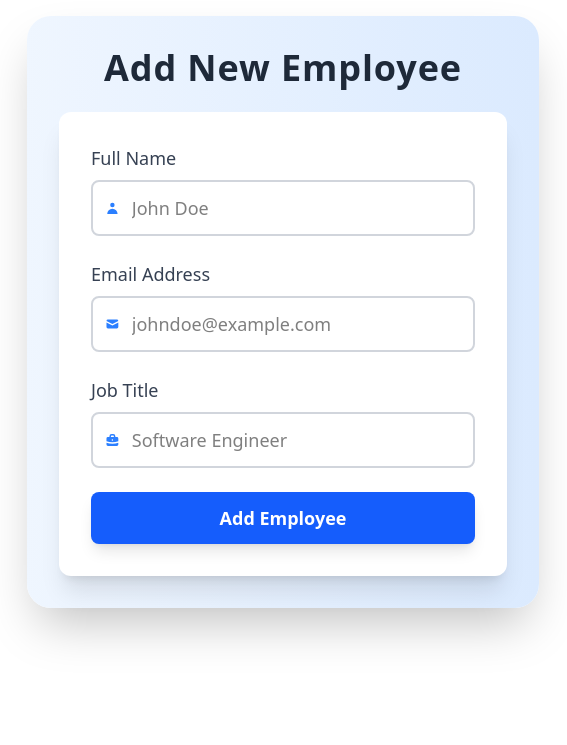
it: AddEmployee Component › should show validation errors when fields are empty
Submit the form without filling any fields
Click the button "Add Employee" at x=283, y=518, box [91, 492, 475, 544]
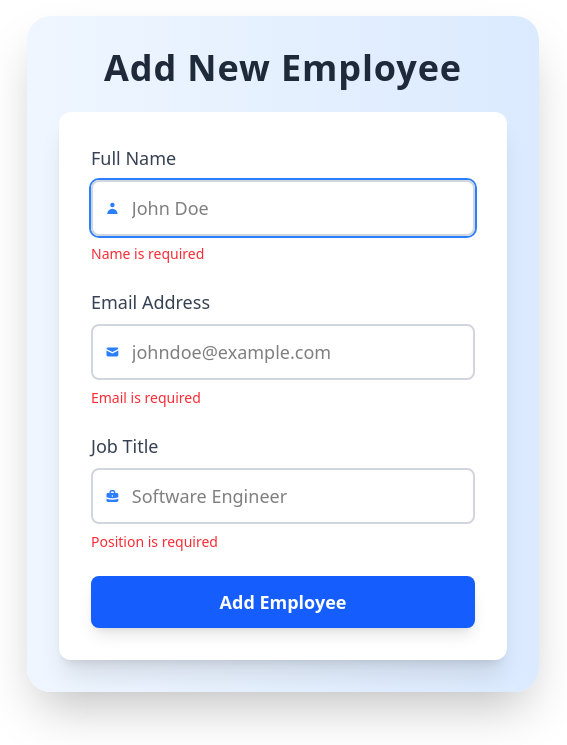
Expected: the text "Name is required" is shown, [91, 244, 204, 263]
Expected: the text "Email is required" is shown, [91, 388, 201, 407]
Expected: the text "Position is required" is shown, [91, 532, 218, 551]
